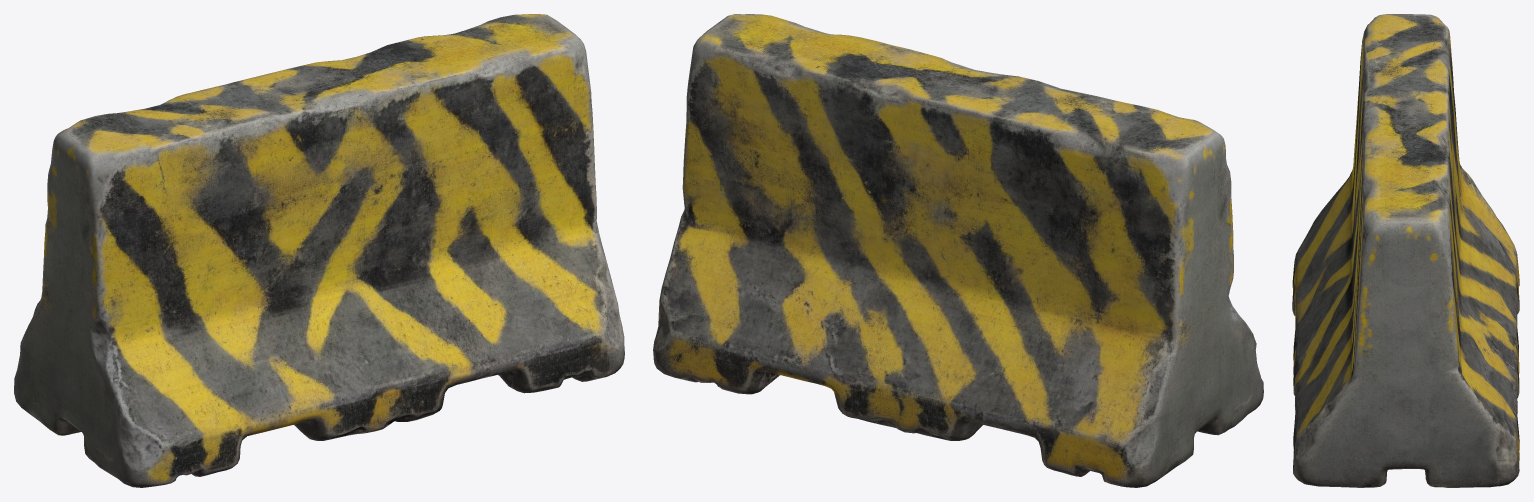
Rendered from prop_barrier.glb.
3 renders of one model, left to right at view 1: azimuth 30°, elevation 25°; view 2: azimuth 150°, elevation 25°; view 3: azimuth 270°, elevation 25°, orthographic. The views are drawn at different scales.
Size of the model in its own units: 0.999 by 0.5878 by 0.4507.
1 material, 1 textured.
